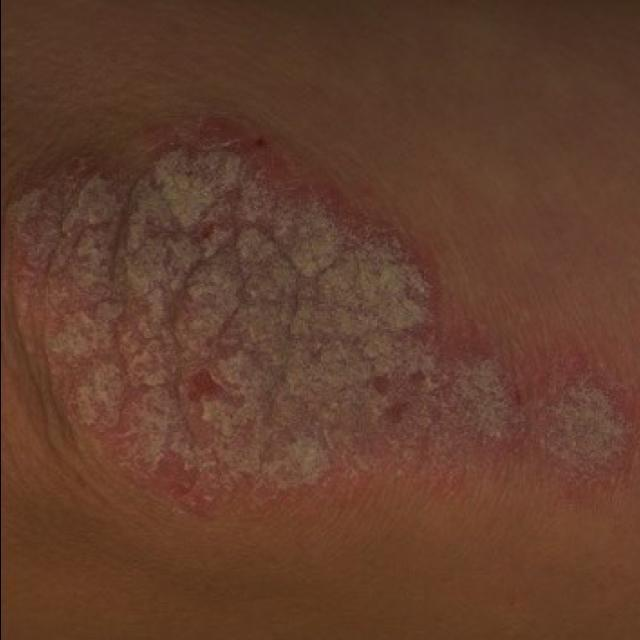Psoriasis: (0, 86, 637, 609)
